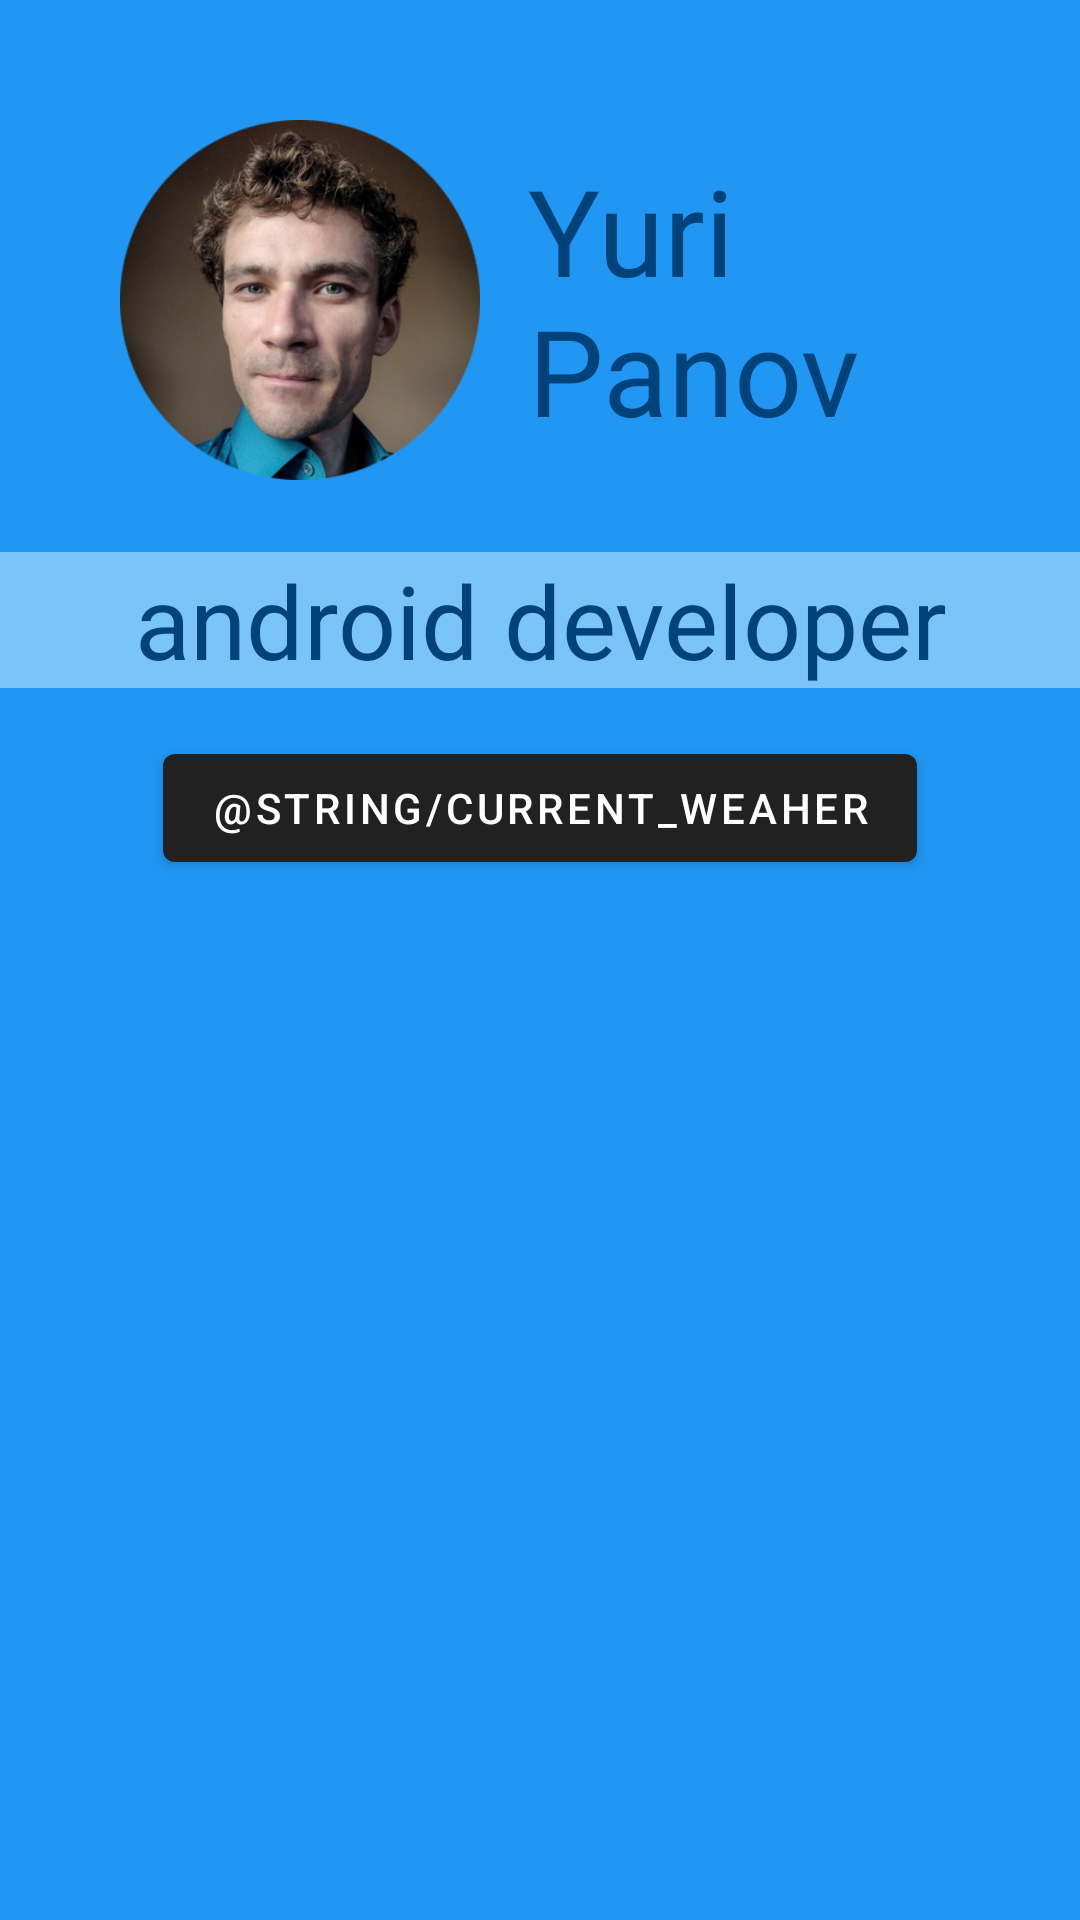

Icons on this 1080px x 1920px Android screen, each with its box as (x1, y1, x2, y2):
Personal Photo: (120, 120, 480, 480)
